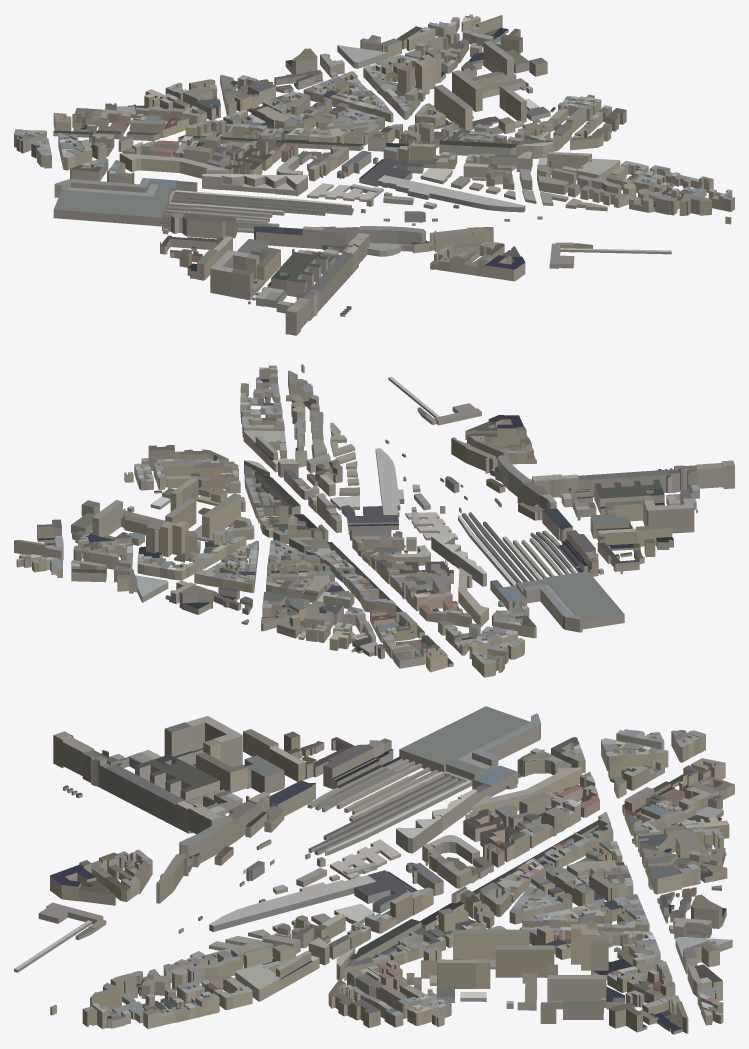
3 renders of one model, top to bottom at view 1: azimuth 30°, elevation 25°; view 2: azimuth 150°, elevation 25°; view 3: azimuth 270°, elevation 25°, orthographic. The views are drawn at different scales.
Parts seen in each view (by area): view 1: tuile; view 2: tuile; view 3: tuile.
Boxes of the visible parts, left/top/right/bottom form: tuile: left=14, top=14, right=734, bottom=335; tuile: left=14, top=364, right=734, bottom=677; tuile: left=14, top=706, right=734, bottom=1034.
Size of the model in its own units: 1128 by 72.67 by 1078.
